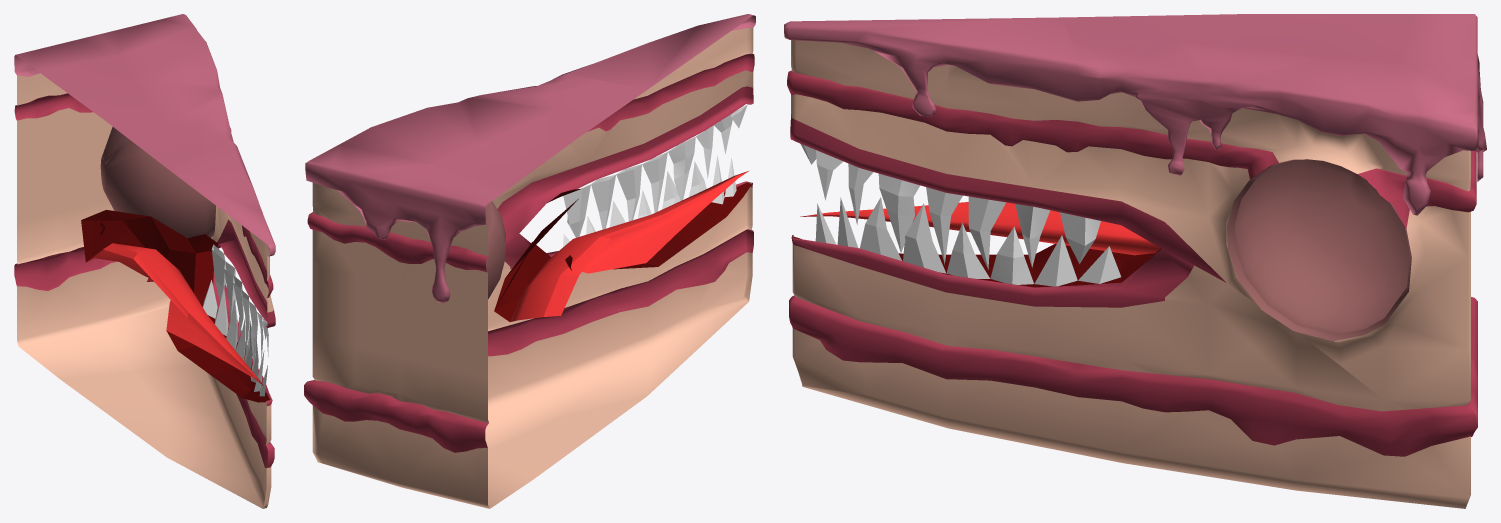
Rendered from CakeComplete2-2b.obj.
3 renders of one model, left to right at view 1: azimuth 30°, elevation 25°; view 2: azimuth 150°, elevation 25°; view 3: azimuth 270°, elevation 25°, orthographic. The views are drawn at different scales.
Parts seen in each view (by area): view 1: CakeComplete2-2b; view 2: CakeComplete2-2b; view 3: CakeComplete2-2b.
Part boxes in pixels (bbox=[...]): CakeComplete2-2b: bbox=[14, 14, 275, 508]; CakeComplete2-2b: bbox=[304, 14, 755, 508]; CakeComplete2-2b: bbox=[784, 14, 1486, 508].
Size of the model in its own units: 1.54 by 2.57 by 4.02.
